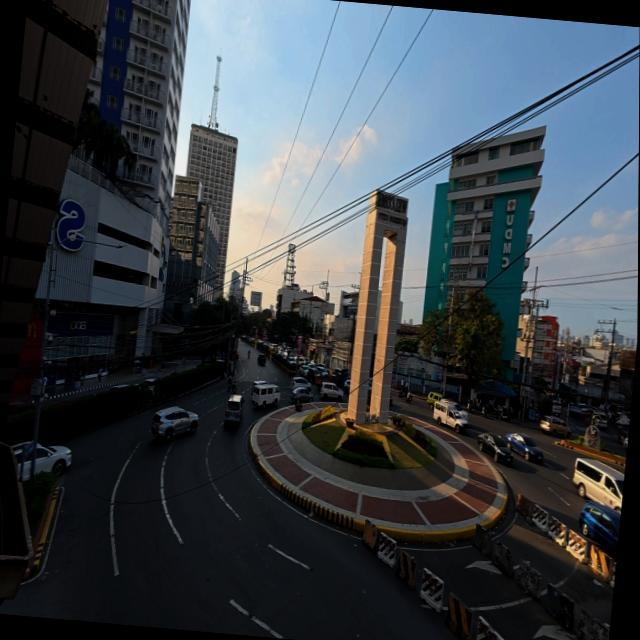car: (578, 502, 620, 557), (151, 406, 197, 441), (34, 445, 71, 475), (505, 433, 543, 462), (477, 433, 512, 463), (539, 416, 570, 439), (438, 399, 468, 421), (319, 382, 342, 401), (7, 401, 33, 415), (290, 387, 312, 403), (138, 378, 155, 397), (426, 392, 442, 409), (290, 376, 309, 389), (568, 404, 588, 416), (306, 368, 319, 383), (550, 401, 561, 417), (316, 364, 329, 376), (107, 384, 128, 391), (298, 364, 308, 377), (257, 353, 265, 365), (252, 380, 268, 386), (287, 356, 295, 368), (343, 379, 349, 393), (296, 356, 304, 366), (623, 437, 628, 449), (235, 350, 239, 359)
motorcycle: (466, 399, 482, 413), (480, 402, 496, 415), (497, 406, 509, 421), (617, 431, 628, 443), (403, 393, 412, 404), (230, 381, 236, 393), (532, 411, 538, 421), (227, 380, 231, 392), (397, 391, 403, 398), (247, 351, 249, 358)
vans: (572, 458, 623, 513), (433, 402, 467, 433), (251, 383, 279, 408), (223, 394, 243, 425), (592, 413, 606, 429)
